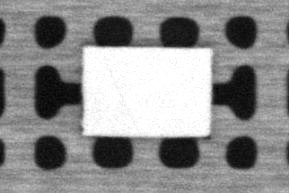DIE_CRACK: (108, 71, 137, 131)
